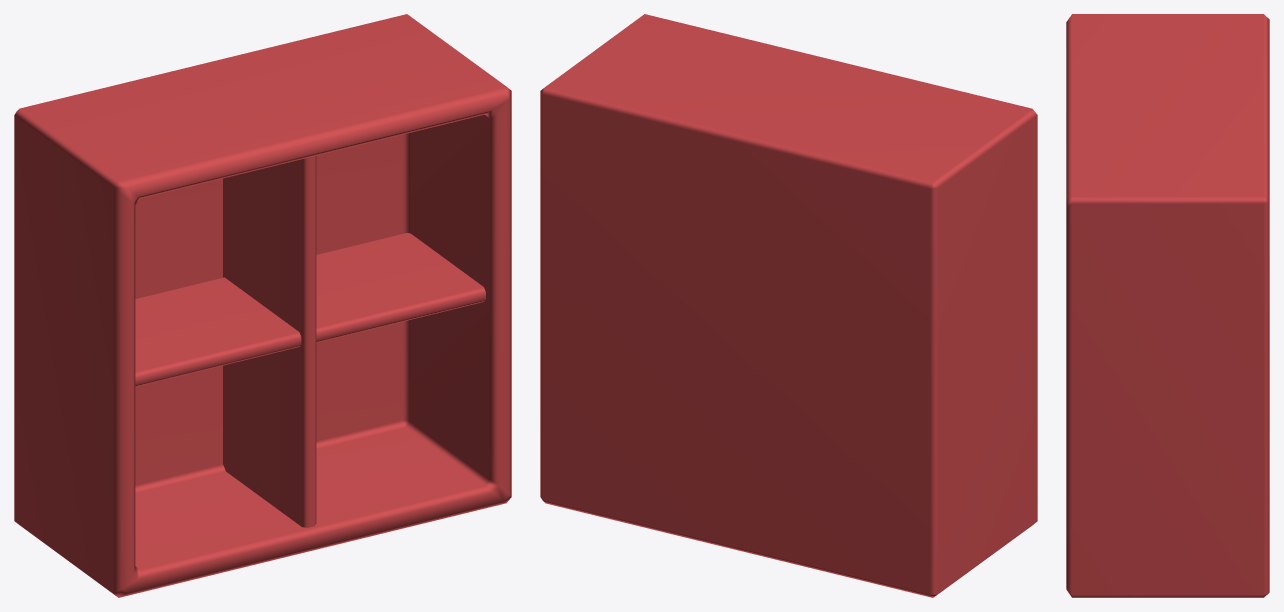
Rendered from dresser_007.fbx.
3 views of the same model, side by side, from view 1: azimuth 30°, elevation 25°; view 2: azimuth 150°, elevation 25°; view 3: azimuth 270°, elevation 25° (orthographic). The views are drawn at different scales.
Visible parts, largest first — view 1: dresser_007; view 2: dresser_007; view 3: dresser_007.
Boxes of the visible parts, x1,y1,x2,y2 form: dresser_007: [14, 14, 511, 597]; dresser_007: [540, 14, 1037, 597]; dresser_007: [1066, 14, 1269, 597].
Size of the model in its own units: 122 by 55.94 by 122.
